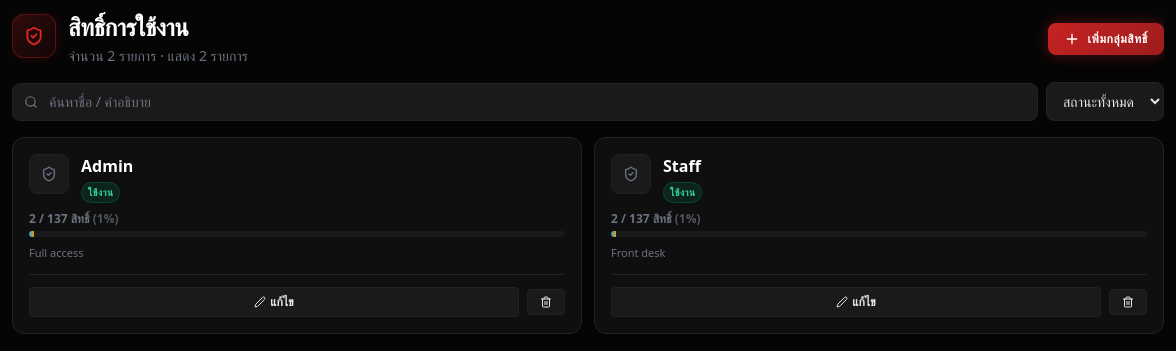
Test: PermissionGroupsTab — PGT1..PGT5 › PGT3: search matches description
Expected: the heading "Admin" is shown, [81, 155, 133, 177]
In the field with placeholder "ค้นหาชื่อ / คำอธิบาย": [525, 102] box [12, 82, 1038, 120], type "front"
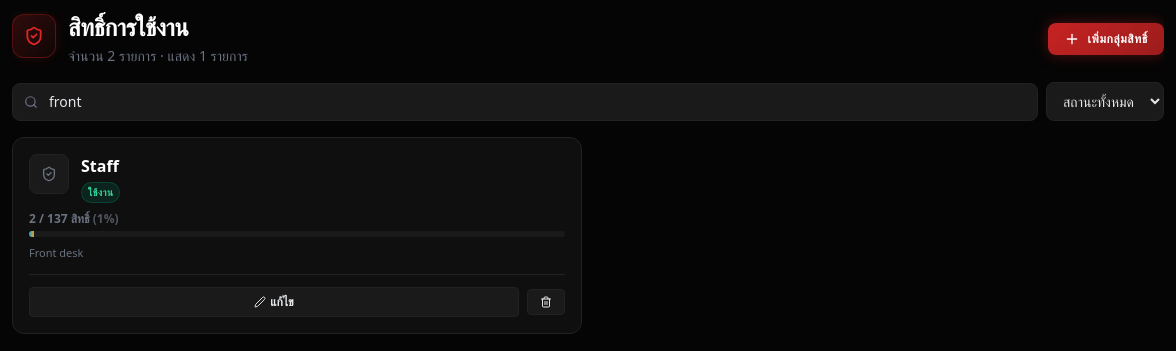
Expected: the heading "Staff" is shown, [81, 155, 119, 177]
Result: the heading "Admin" is gone
